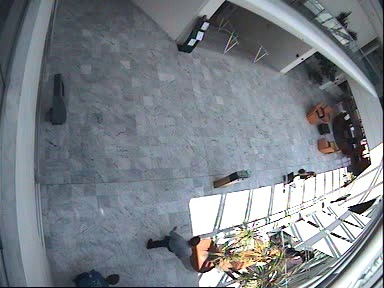person: (146, 225, 200, 259), (282, 167, 316, 193)
